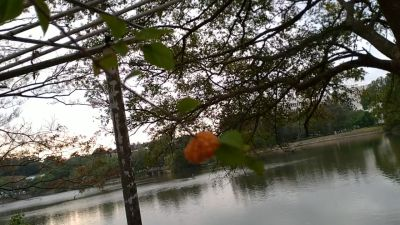eggs: (180, 129, 222, 166)
